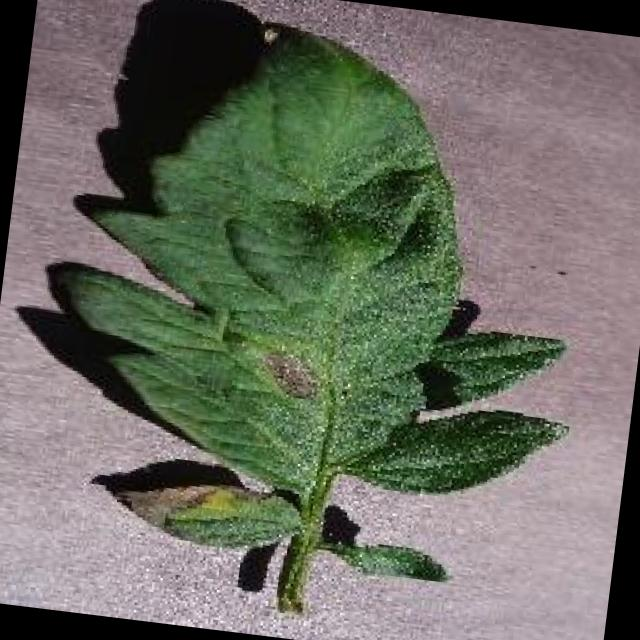Tomato_Early_Blight: (119, 320, 348, 558)
